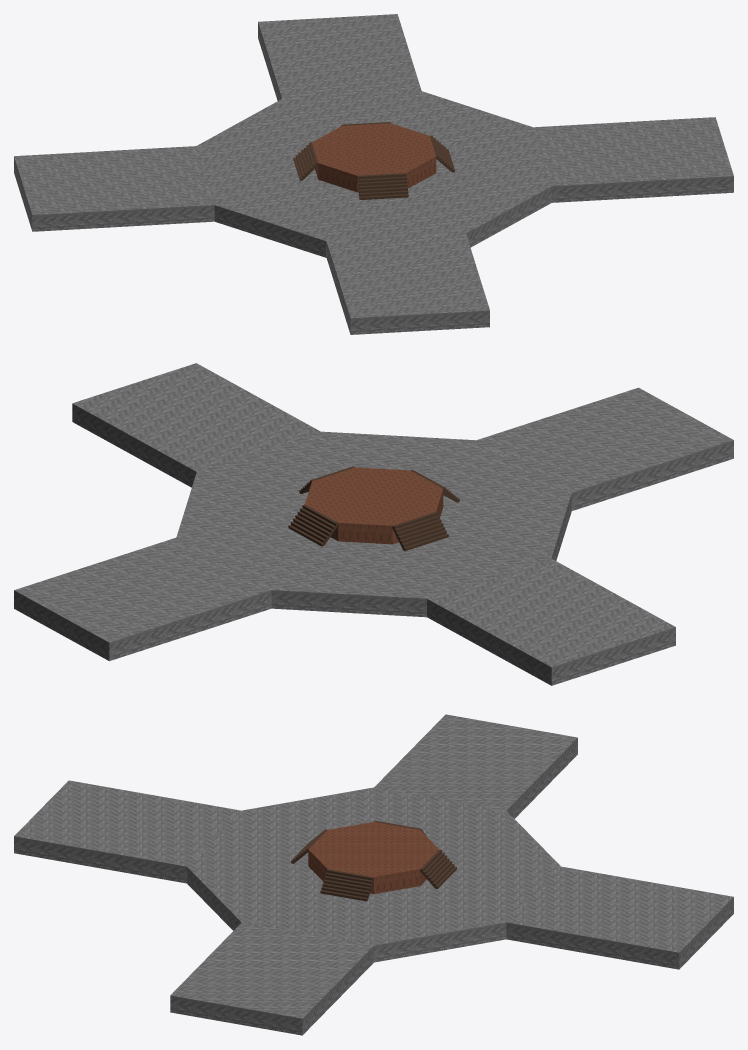
File: Level.fbx
3 views of the same model, one above another, from view 1: azimuth 30°, elevation 25°; view 2: azimuth 150°, elevation 25°; view 3: azimuth 270°, elevation 25° (orthographic). The views are drawn at different scales.
Parts seen in each view (by area): view 1: mergedBlocks; view 2: mergedBlocks; view 3: mergedBlocks.
Part boxes in pixels (x1,y1,x2,y2): mergedBlocks: (14, 14, 733, 334); mergedBlocks: (14, 363, 733, 685); mergedBlocks: (14, 714, 733, 1035).
Bounding box in the file's own units: 385 × 20 × 385.
